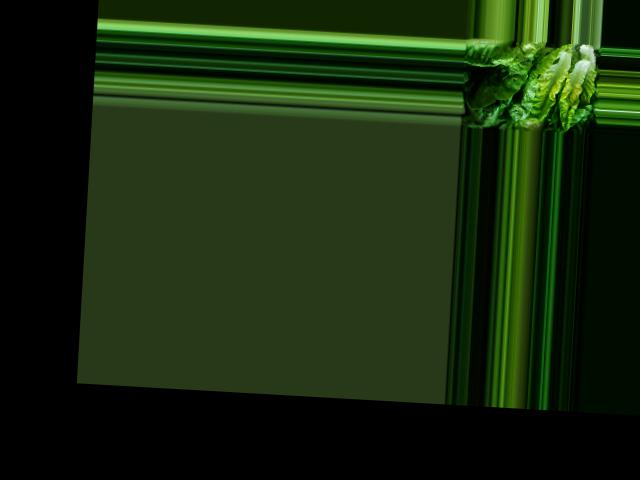lettuce: (507, 39, 598, 128)
